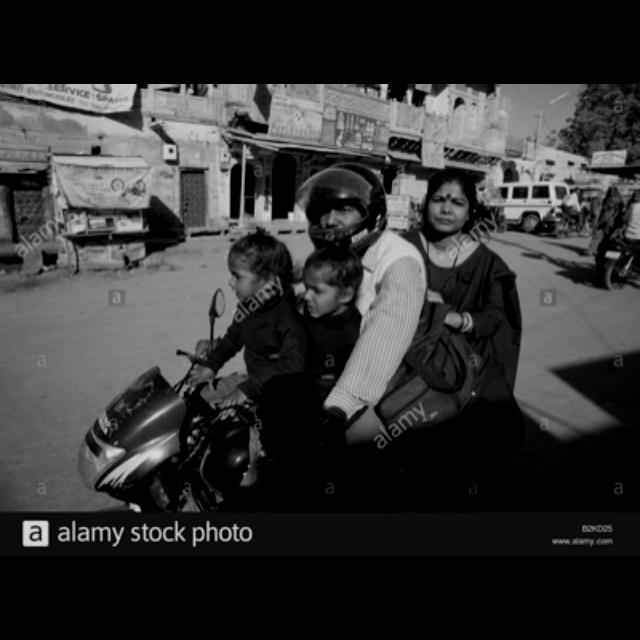With Helmet: (294, 153, 390, 255)
